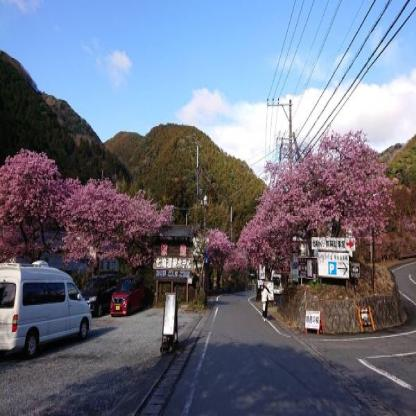KawazuSakura: (240, 127, 416, 281), (0, 141, 179, 282), (205, 216, 254, 285)
